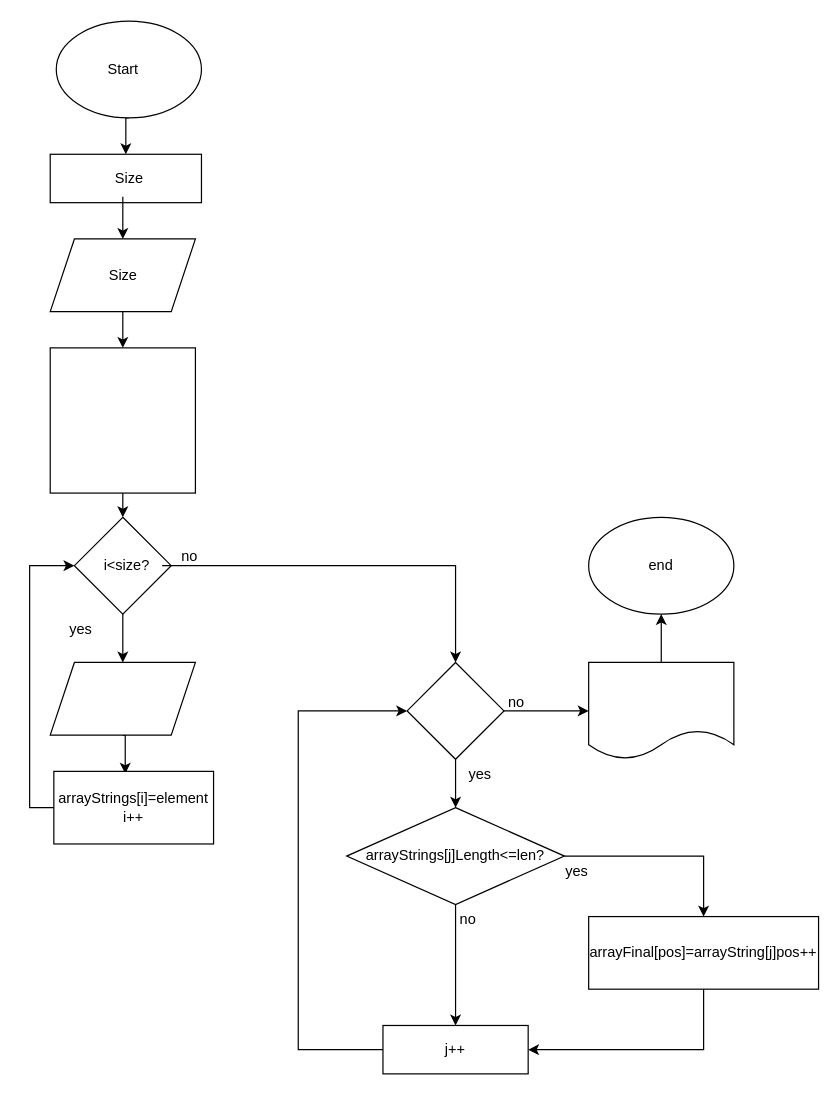
This 840x1105 diagram has some shape labels left out. Here are the shapes that lost their labels. From the top down, the box of each, then its label:
(49, 347, 195, 493): аrrayStrings[size] arrayFinal[size] element i=0 j=0 len=3 pos=0
(49, 661, 195, 735): element
(406, 661, 504, 759): j<size?
(587, 661, 734, 759): array Final
